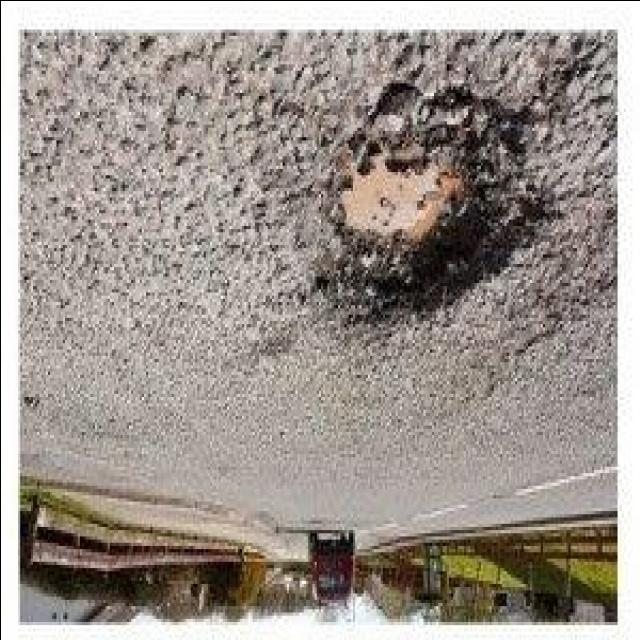lubang: (307, 80, 546, 330)
